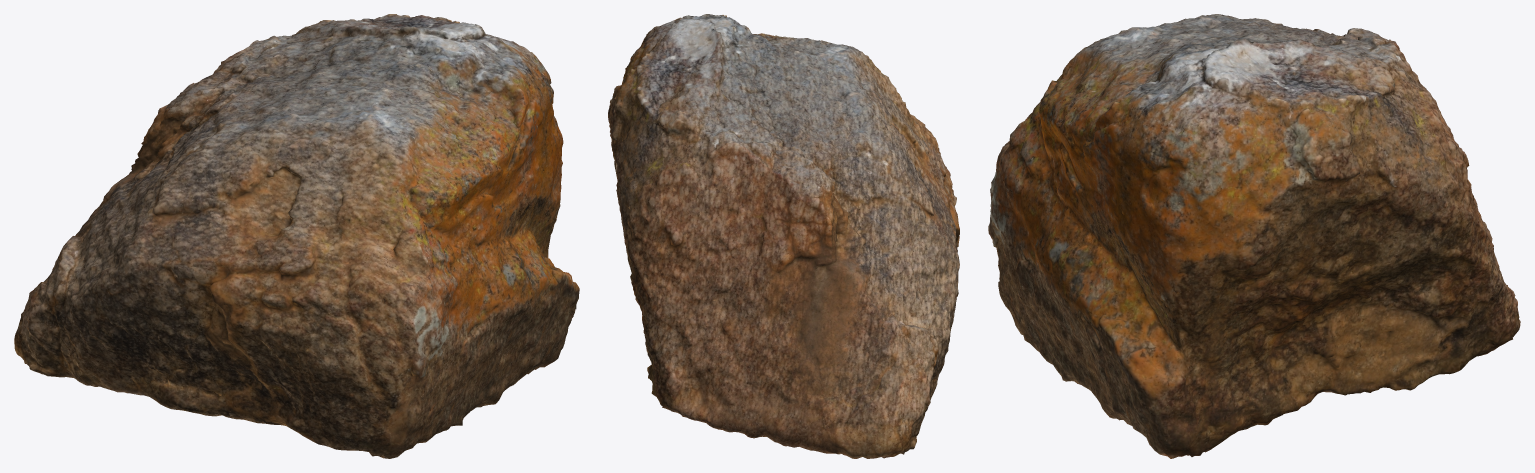
File: namaqualand_boulder_04.glb
3 renders of one model, left to right at view 1: azimuth 30°, elevation 25°; view 2: azimuth 150°, elevation 25°; view 3: azimuth 270°, elevation 25°, orthographic. The views are drawn at different scales.
Visible parts, largest first — view 1: boulder_04; view 2: boulder_04; view 3: boulder_04.
Boxes of the visible parts, left/top/right/bottom form: boulder_04: left=14, top=14, right=579, bottom=458; boulder_04: left=608, top=14, right=959, bottom=458; boulder_04: left=988, top=14, right=1520, bottom=458.
Size of the model in its own units: 2.52 by 1.9 by 2.5.
Materials: 1 (1 with a texture image).
